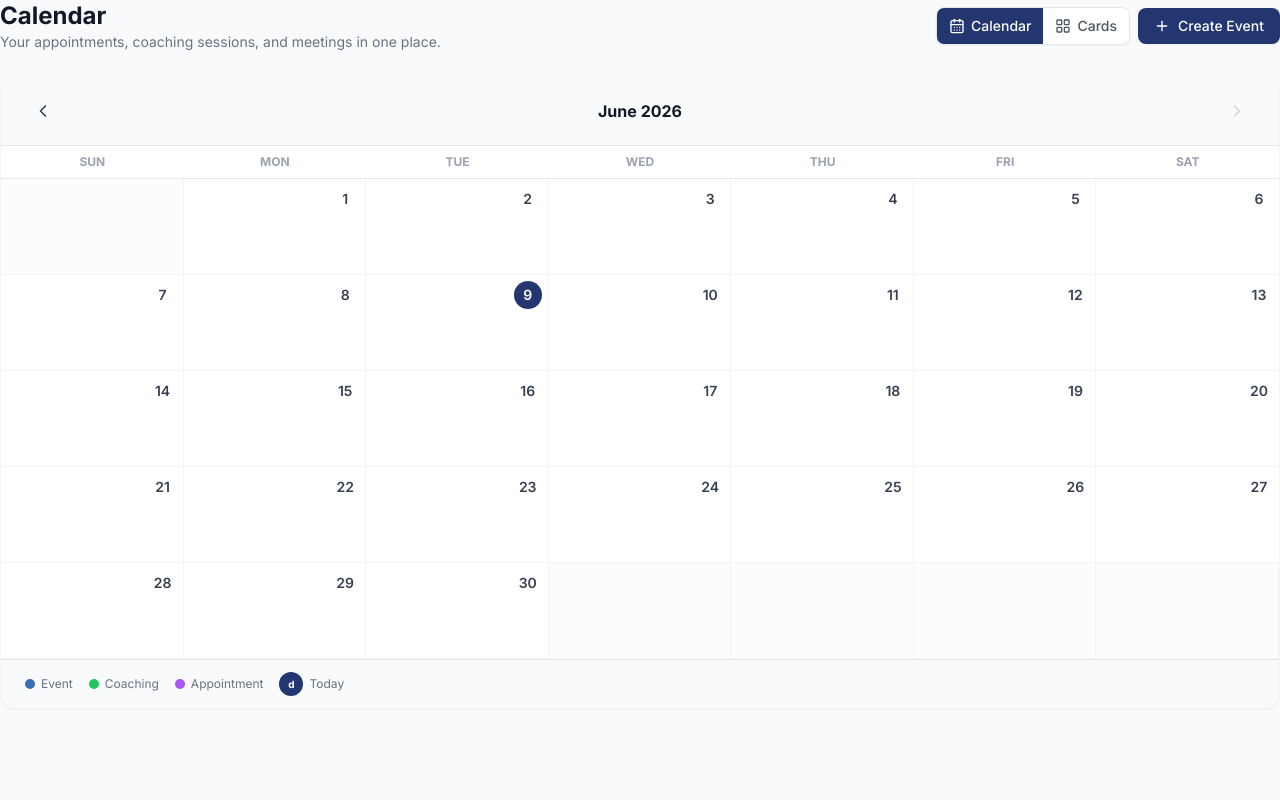
Scenario: MyCalendar — Create Event Audience section › shows groups in Audience section for trainer
The image size is (1280, 800).
Click the button "Create Event": point(1209, 26) top-left (1138, 8), bottom-right (1279, 44)
(page scrolled)
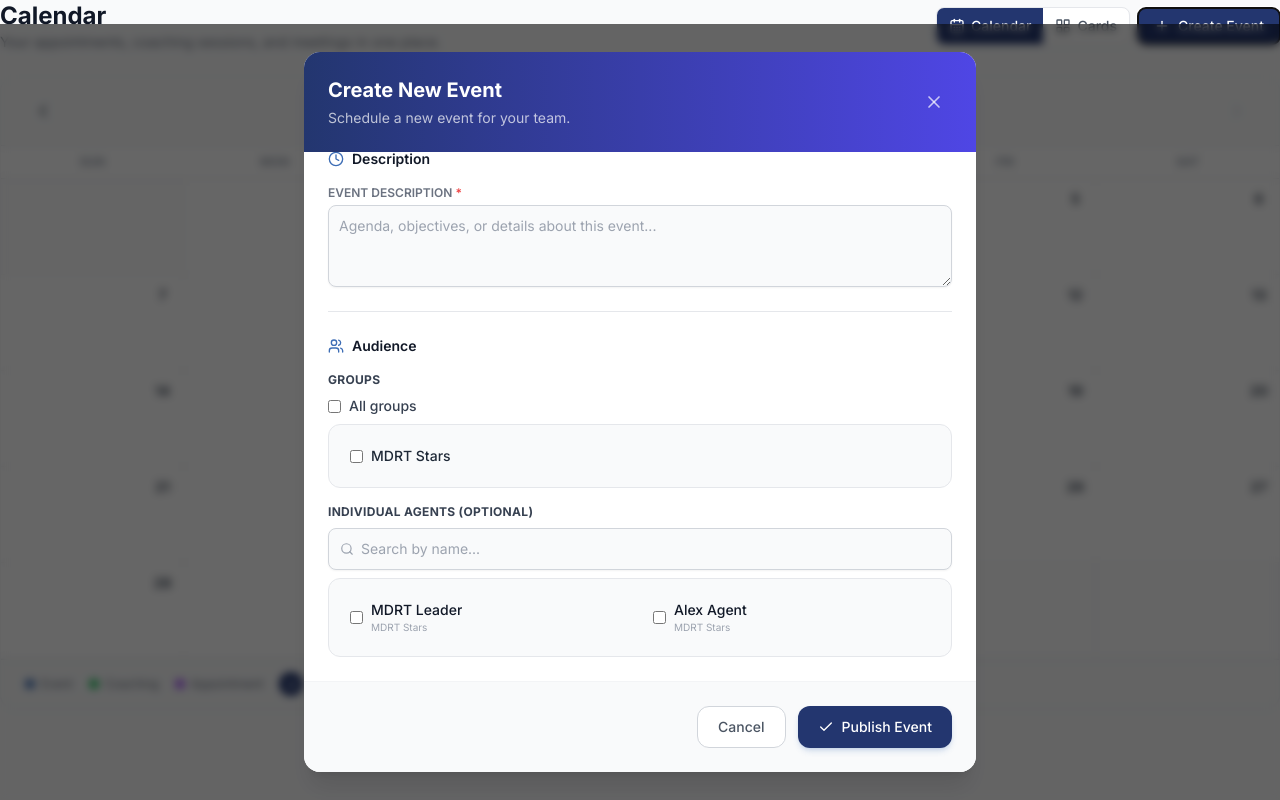
Check: the text "MDRT Stars" below "All groups" is shown, box top-left (371, 447), bottom-right (451, 464)
